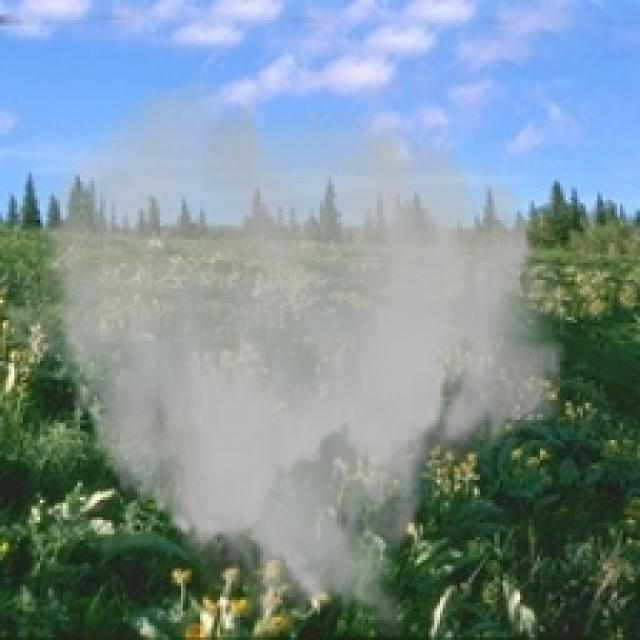smoke: (6, 74, 574, 637)
